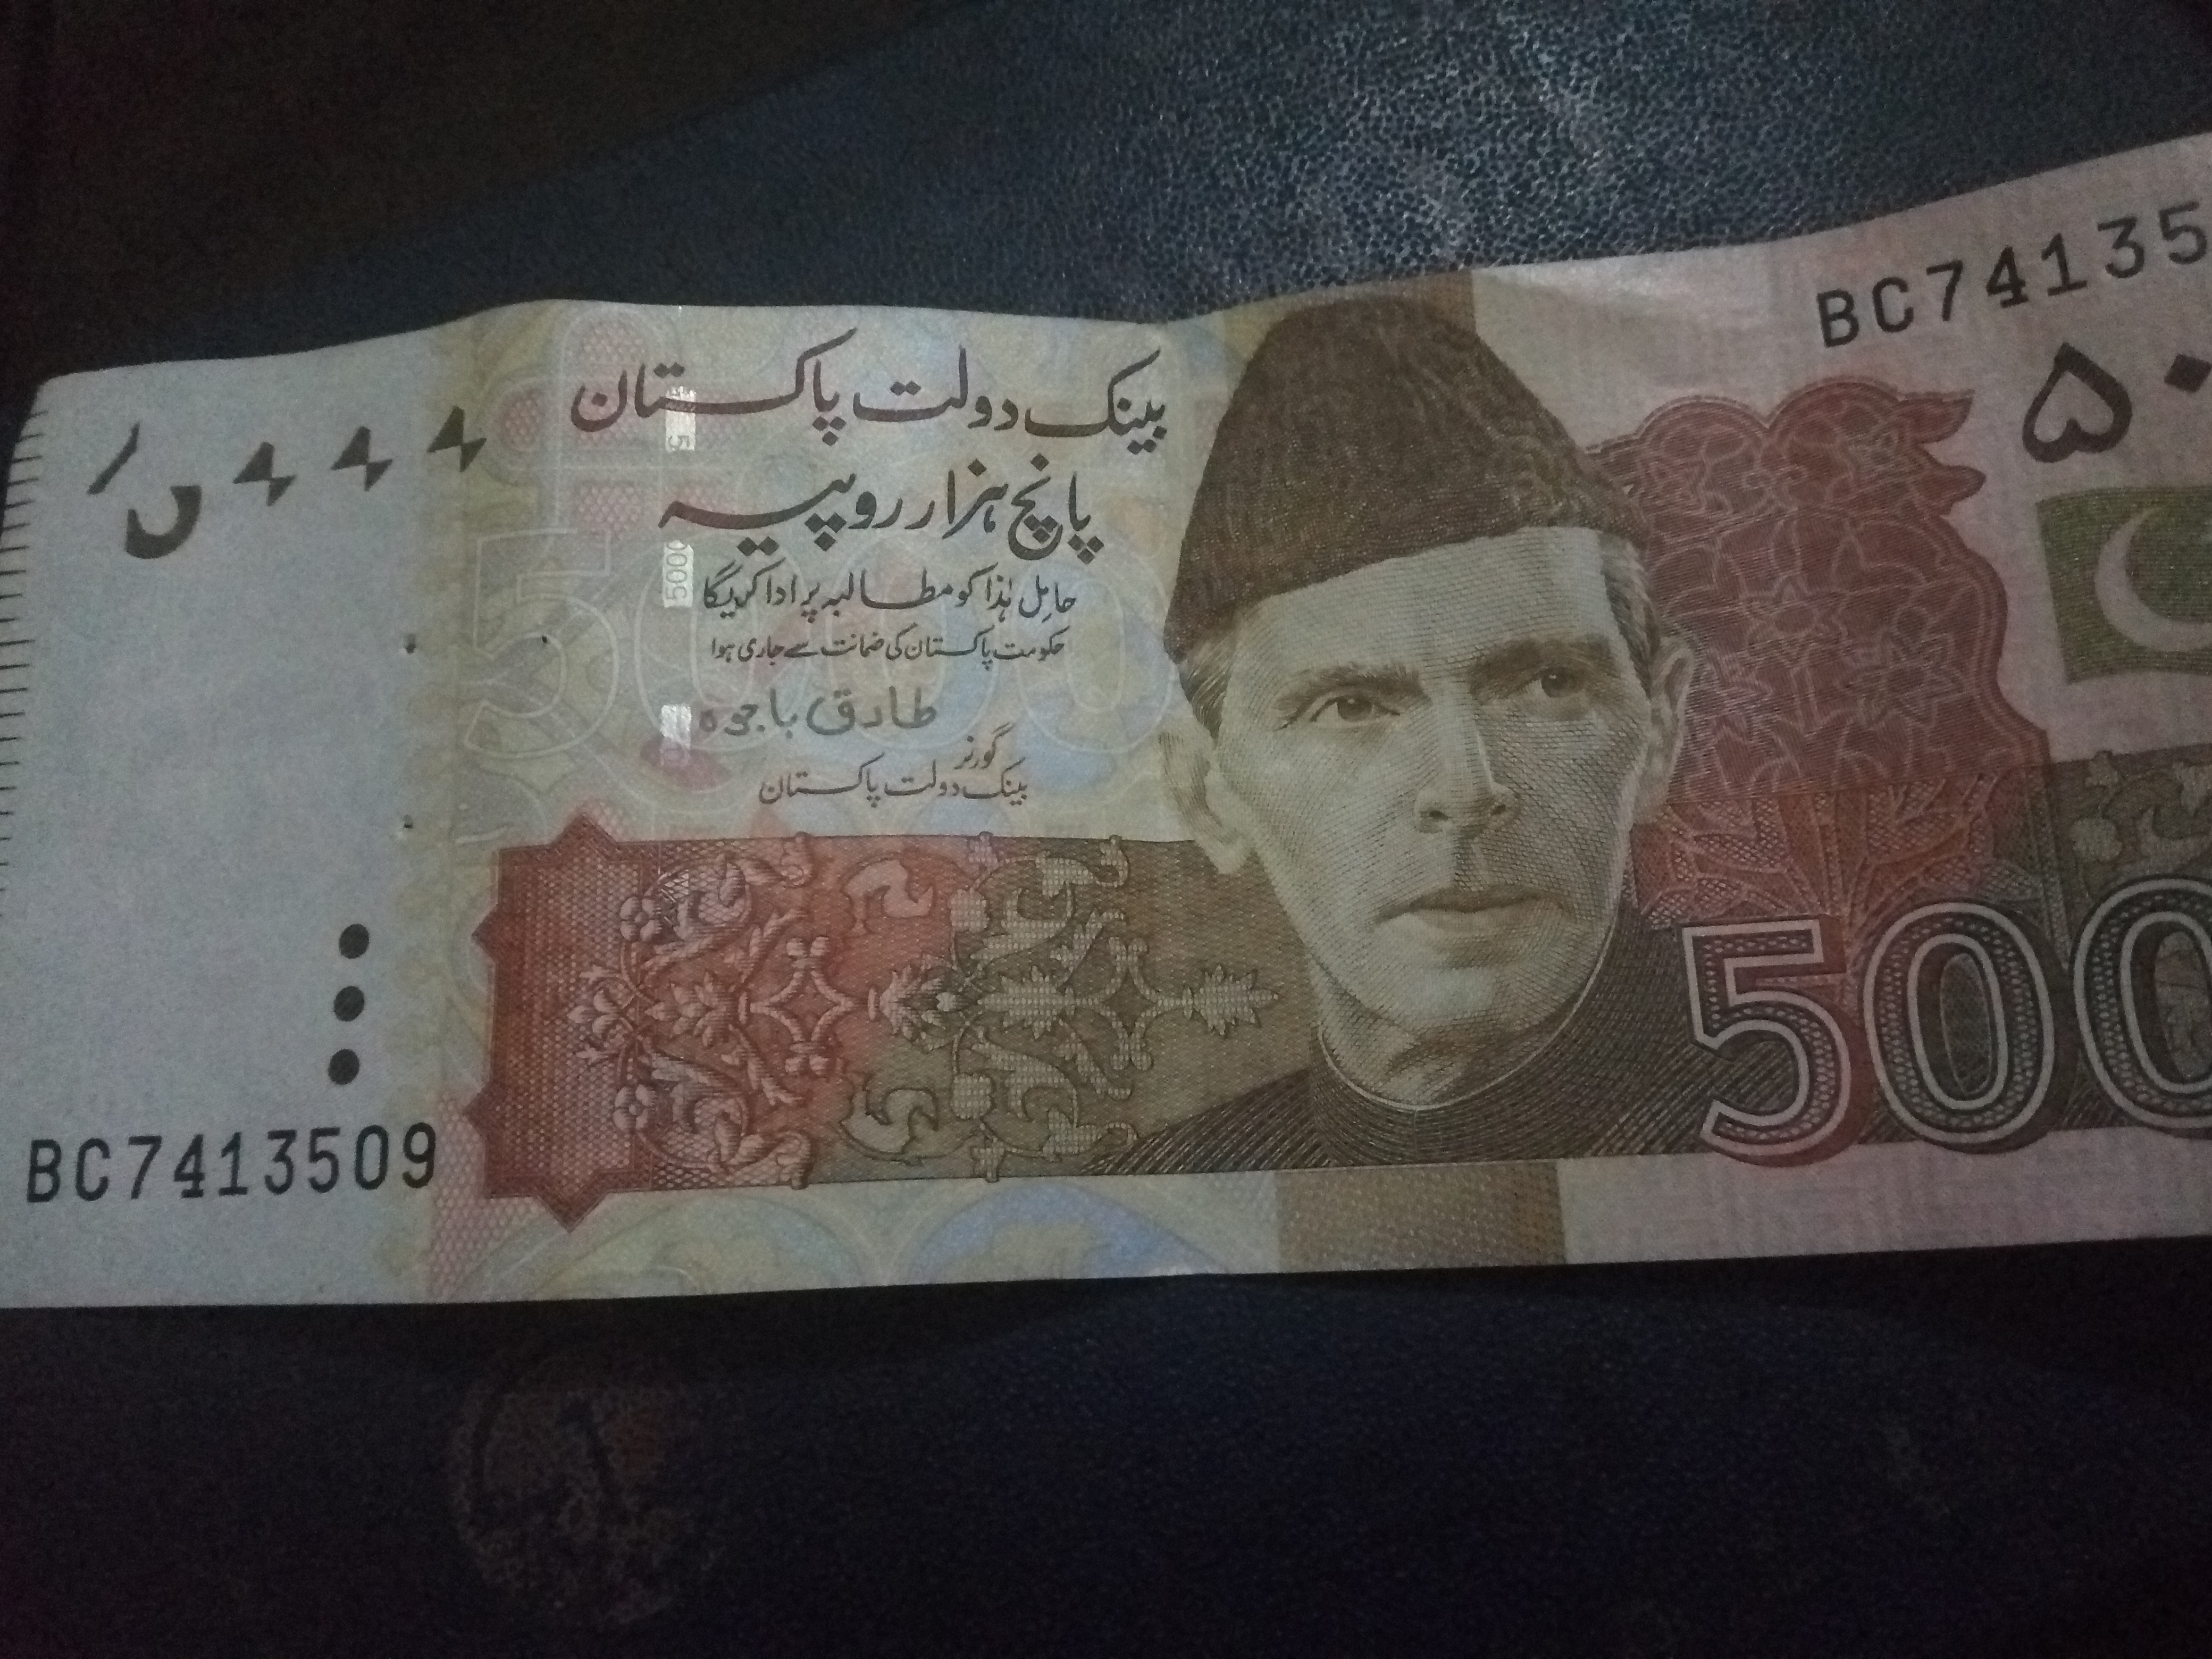5000 rupee: (37, 204, 2186, 1267), (230, 857, 521, 1129)
